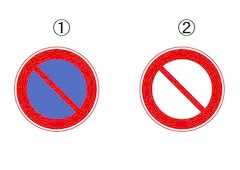Prohibition_sign: (11, 41, 105, 135), (145, 42, 227, 133)
